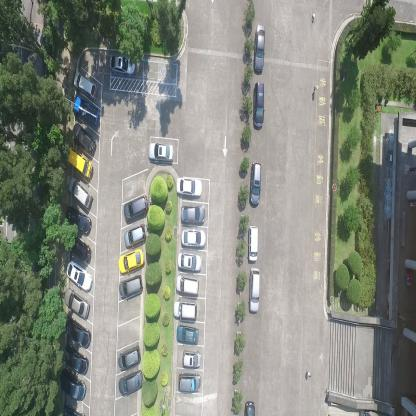car: (64, 258, 93, 292), (66, 146, 94, 180), (68, 174, 93, 212), (59, 369, 87, 402), (63, 318, 91, 349), (65, 204, 92, 236), (63, 288, 90, 320), (72, 95, 98, 128), (62, 344, 89, 374), (118, 245, 145, 274), (123, 192, 148, 222), (252, 22, 266, 74), (118, 367, 143, 396), (72, 122, 96, 152), (252, 79, 265, 131), (71, 72, 97, 98), (108, 52, 135, 77), (248, 160, 262, 207), (176, 174, 204, 197), (118, 344, 142, 370), (119, 273, 142, 300), (124, 221, 146, 249), (248, 266, 260, 314), (148, 141, 174, 163), (179, 204, 206, 225), (69, 237, 92, 261), (177, 251, 203, 272), (172, 300, 198, 321), (176, 323, 198, 346), (247, 223, 259, 263), (176, 276, 200, 296), (178, 372, 202, 392), (181, 230, 207, 248), (182, 349, 202, 368)
